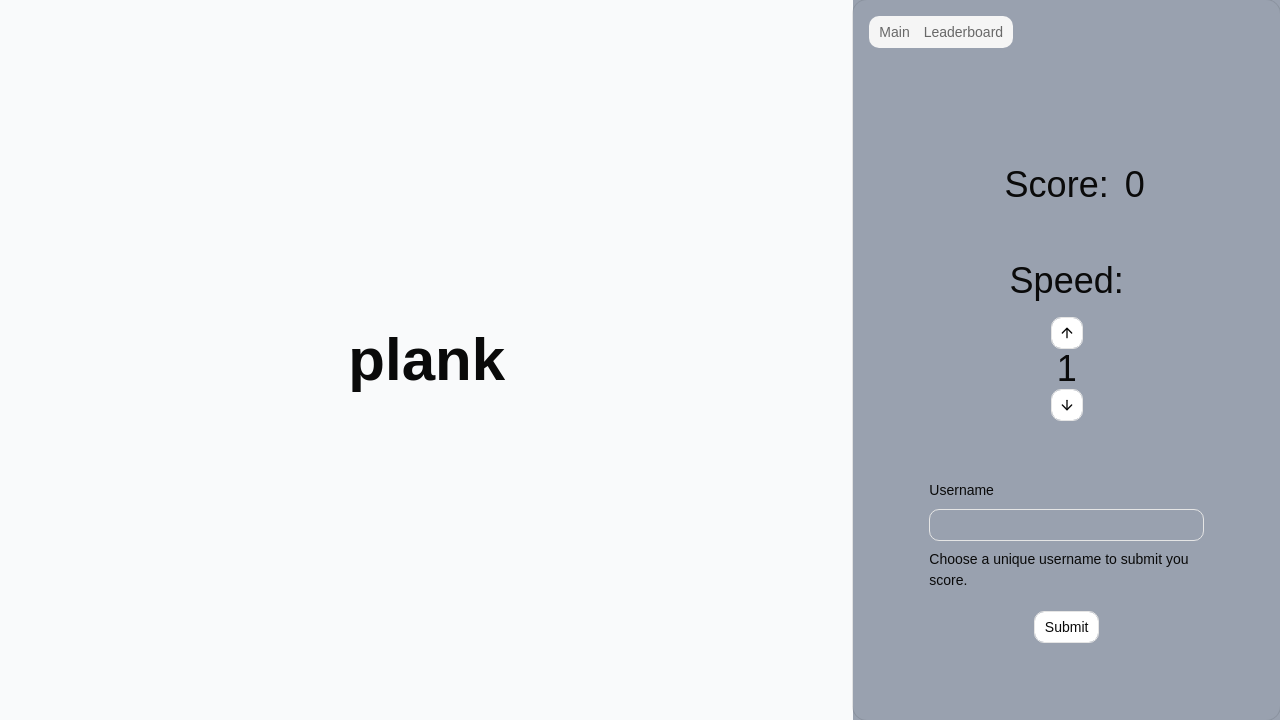
Difficulty controls › decreases difficulty when down arrow is clicked
Click the button named "increase difficulty". click: (1067, 333)
box: x1=1051 y1=317 x2=1083 y2=349
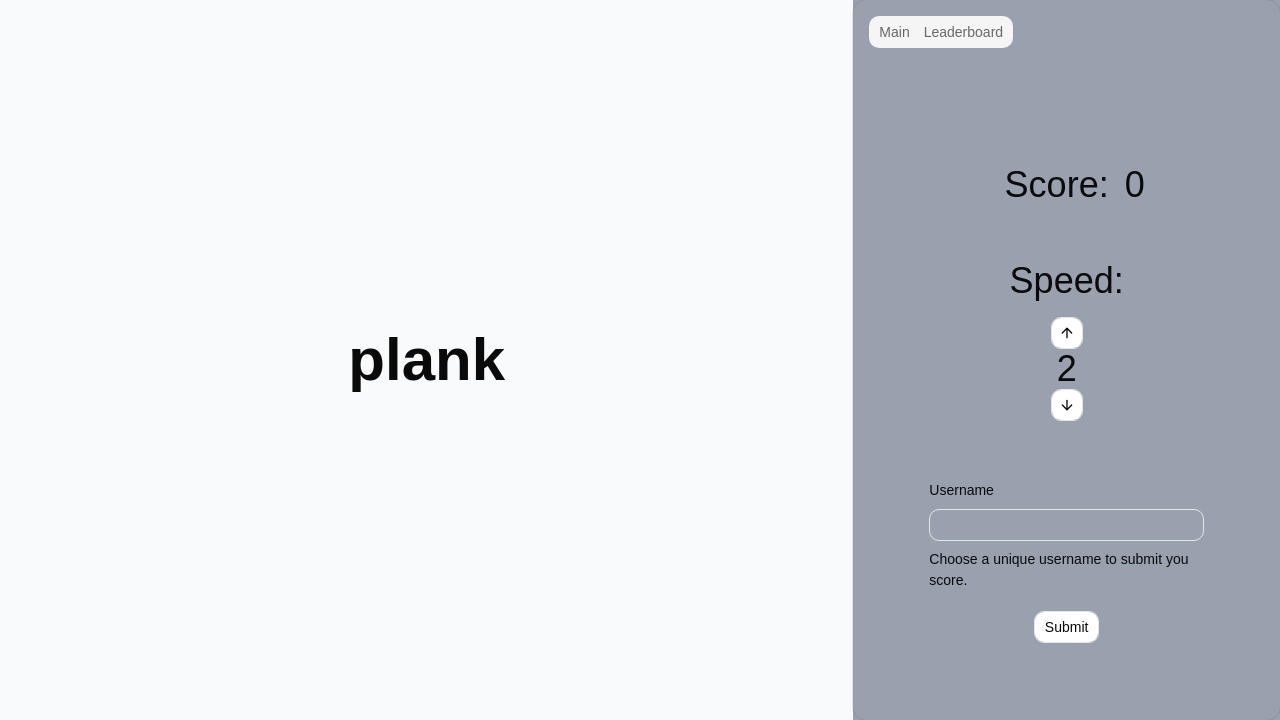
Click the button named "decrease difficulty". click: (1067, 405)
box: x1=1051 y1=389 x2=1083 y2=421
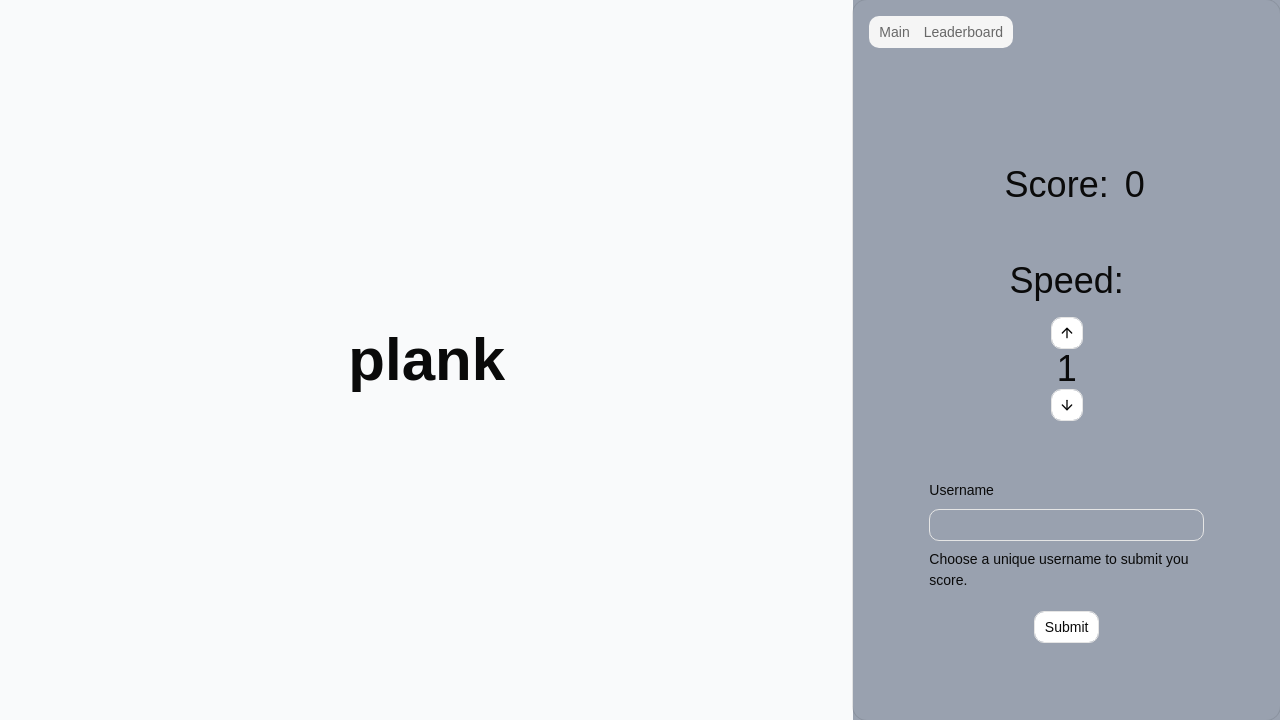
Now the text "1" is shown, box x1=1057 y1=349 x2=1077 y2=389
